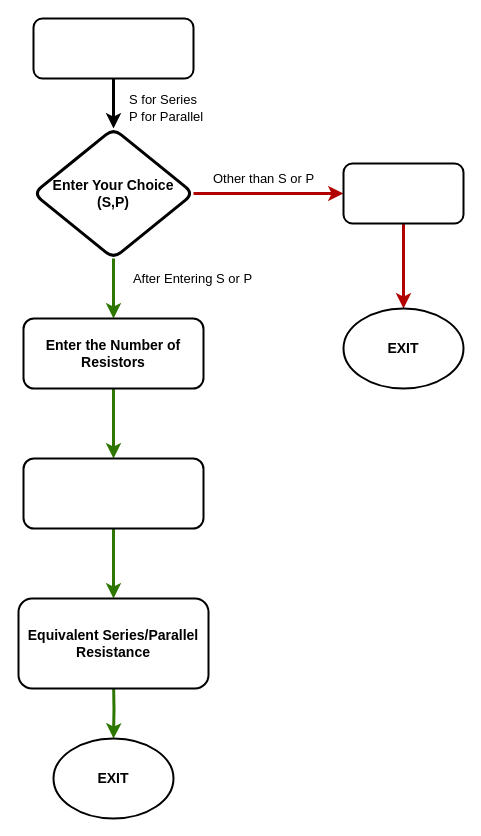
Image size: 481x836. Some labels were removed from this diagram. The shapes that lost their labels are listed below. From the top down, each one's centre as x and y in pixels, then its label:
the point at 113,48: Initialize and Run the CODE
the point at 403,193: Invalid Choice!!!
the point at 113,493: Enter the Value of Each Resistors
